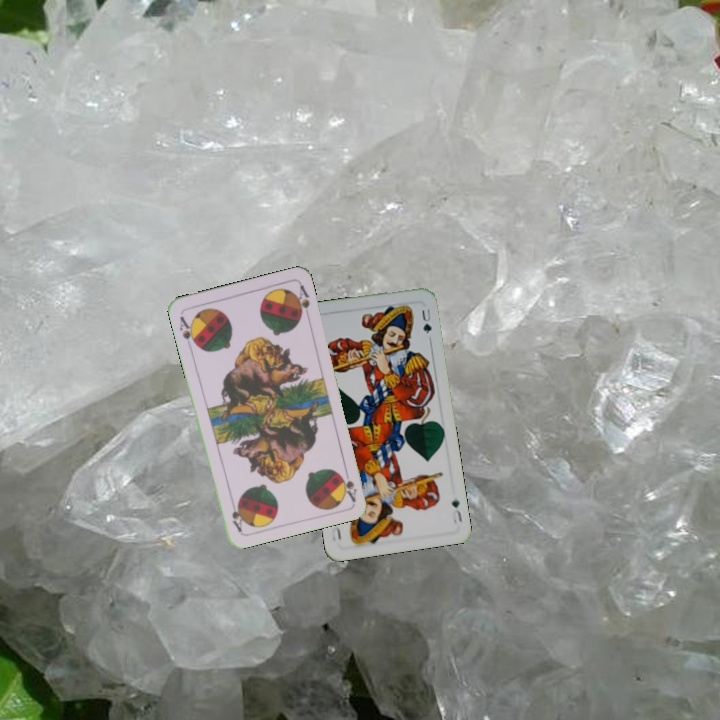GU: (448, 495, 464, 526)
SA: (175, 312, 200, 351), (338, 464, 360, 504)
